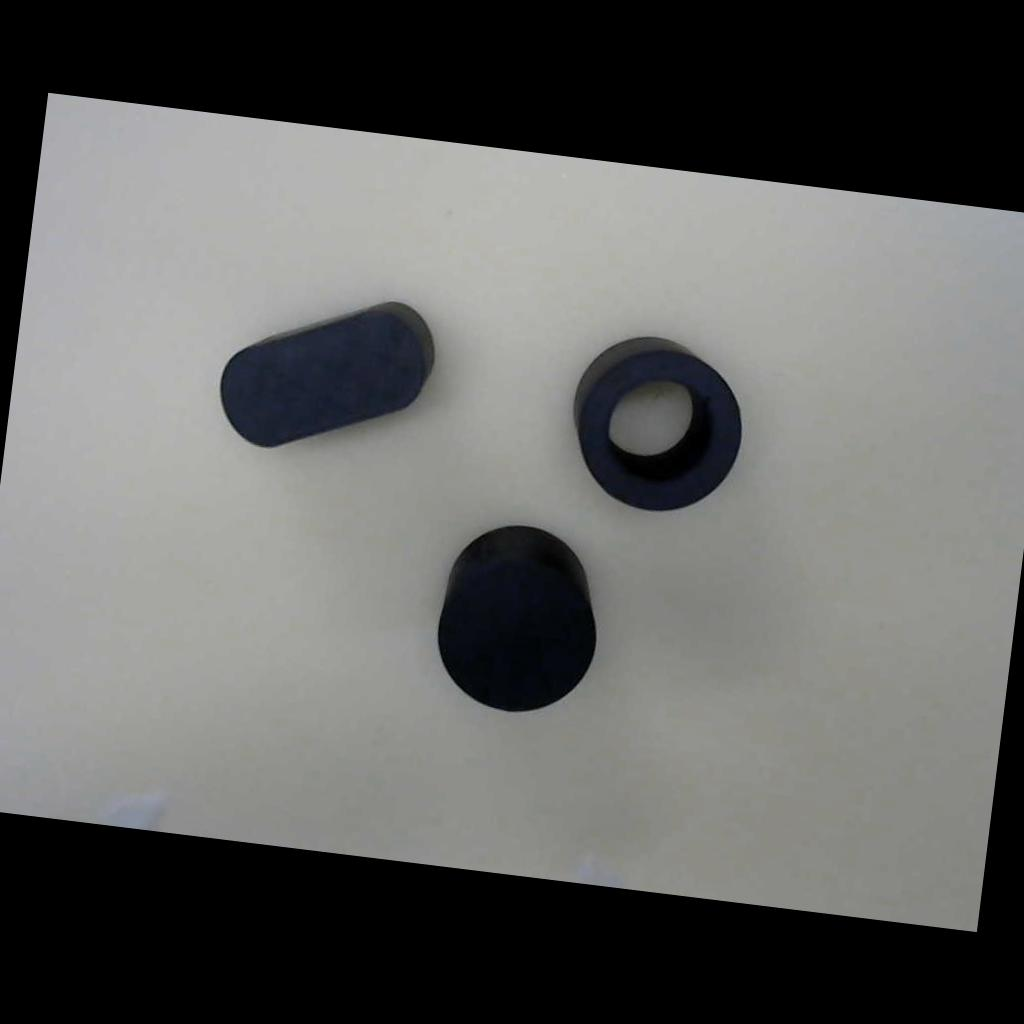circle: (412, 503, 629, 740)
oval: (191, 280, 461, 473)
ring: (544, 316, 768, 530)
